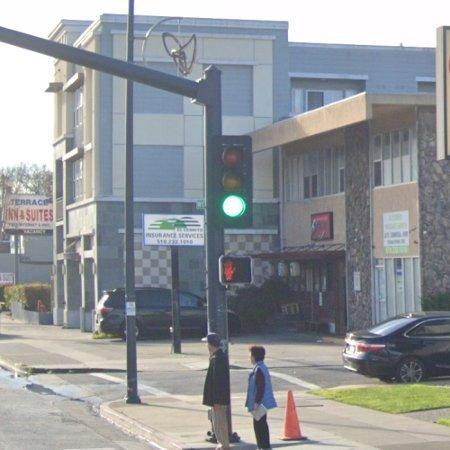traffic lights: (212, 134, 253, 229), (217, 253, 253, 285)
